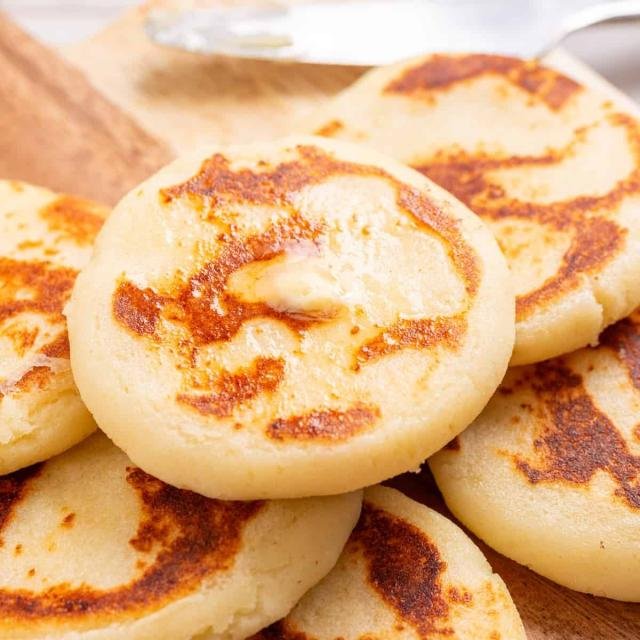arepa: (64, 135, 518, 508)
